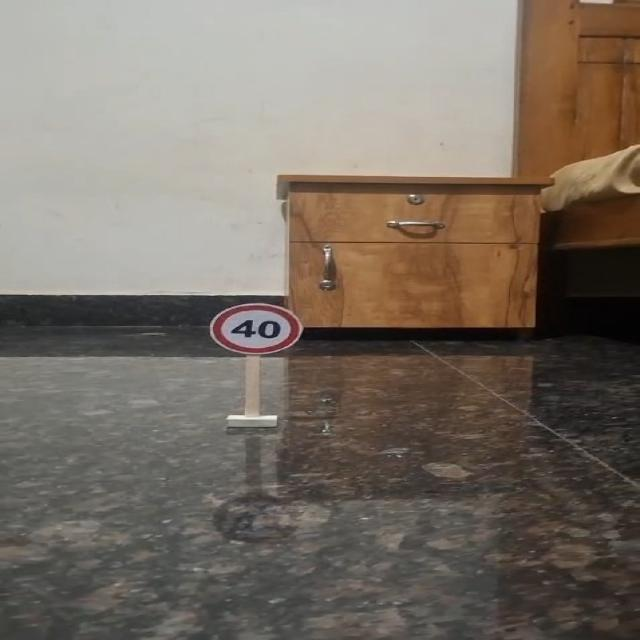Speed40: (206, 301, 307, 357)
